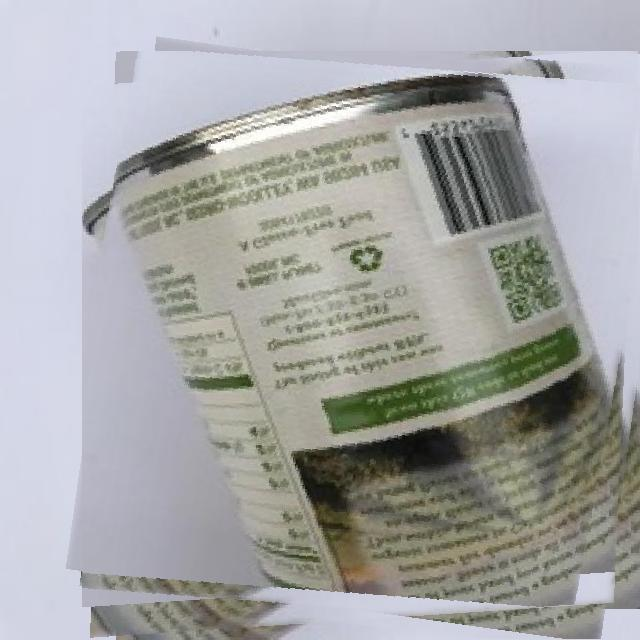recyclable: (82, 51, 640, 640)
